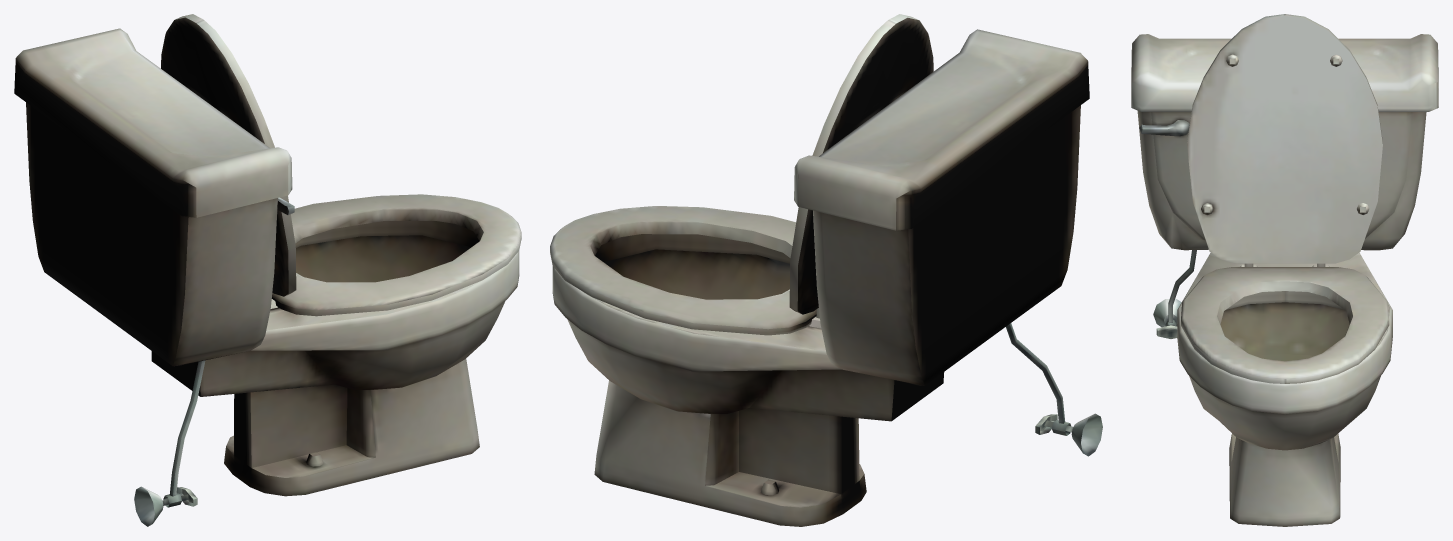
Rendered from toilet.glb.
The picture shows the model from 3 angles, left to right: view 1: azimuth 30°, elevation 25°; view 2: azimuth 150°, elevation 25°; view 3: azimuth 270°, elevation 25°; orthographic projection. The views are drawn at different scales.
Visible parts, largest first — view 1: Object_17_toilet.004_0_15, Object_16_toilet_b.004_0_13; view 2: Object_17_toilet.004_0_15, Object_16_toilet_b.004_0_13; view 3: Object_16_toilet_b.004_0_13, Object_17_toilet.004_0_15.
Part boxes in pixels (x1,y1,x2,y2): Object_17_toilet.004_0_15: [14, 28, 519, 526]; Object_16_toilet_b.004_0_13: [161, 14, 521, 316]; Object_17_toilet.004_0_15: [552, 29, 1102, 526]; Object_16_toilet_b.004_0_13: [550, 14, 933, 335]; Object_16_toilet_b.004_0_13: [1181, 14, 1389, 383]; Object_17_toilet.004_0_15: [1131, 34, 1438, 526].
Bounding box in the file's own units: 0.7803 × 0.8063 × 0.5561.
Materials: 2 (2 with a texture image).
